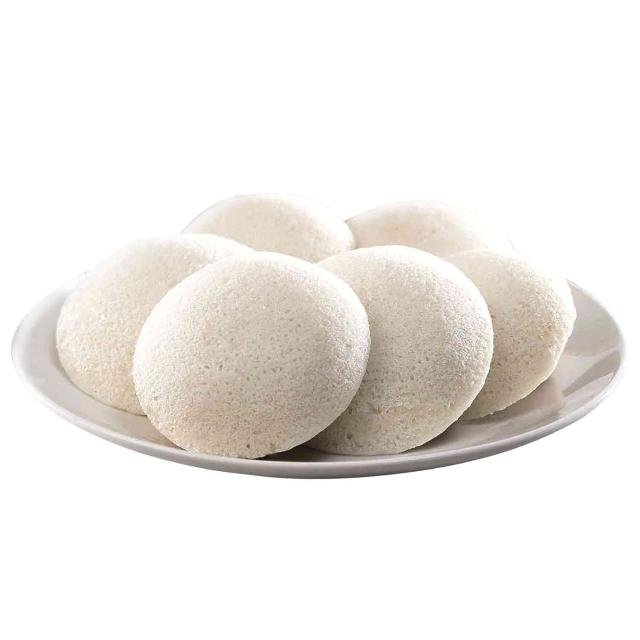Idly: (127, 247, 366, 470), (298, 247, 495, 462), (57, 225, 227, 435), (439, 230, 580, 440), (198, 180, 370, 271)
